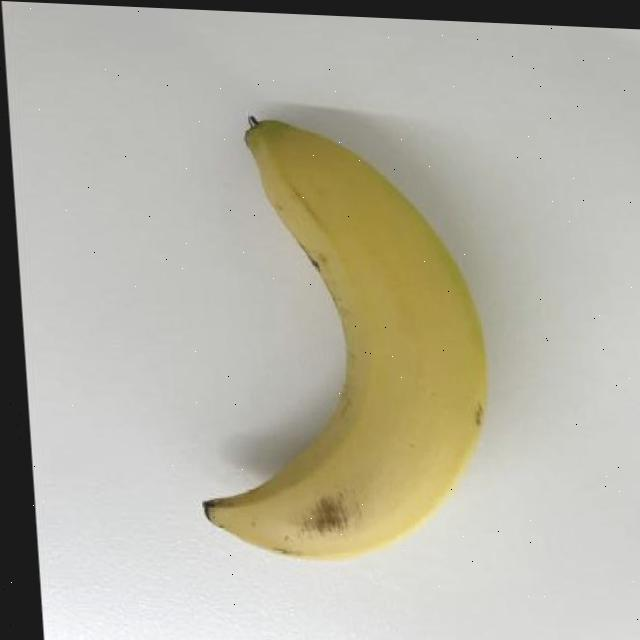banana: (162, 102, 516, 577)
